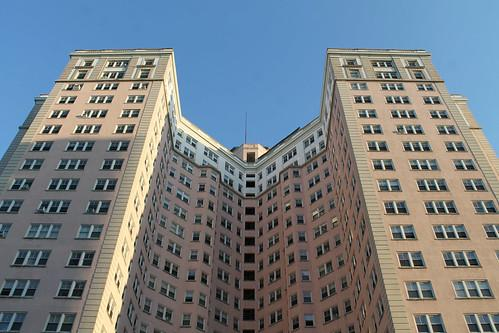building: (320, 43, 499, 333), (4, 41, 182, 331)
